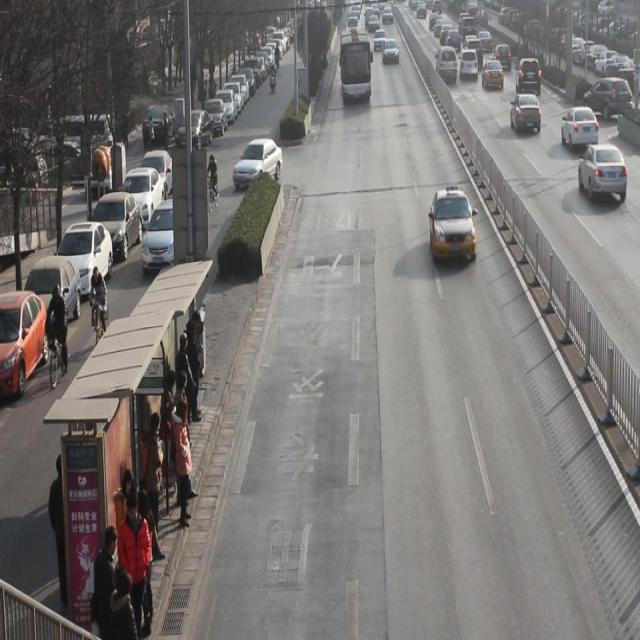car: (140, 200, 197, 272), (430, 186, 477, 262), (578, 145, 628, 203), (233, 138, 283, 187), (584, 78, 640, 120), (562, 107, 599, 149), (509, 94, 542, 138), (516, 56, 542, 97), (482, 58, 504, 93), (466, 40, 484, 70), (461, 49, 478, 78), (495, 45, 512, 71), (383, 40, 399, 66), (479, 30, 493, 53), (374, 28, 386, 51), (446, 32, 461, 50), (461, 17, 476, 35), (462, 9, 476, 28), (440, 24, 453, 44), (382, 7, 393, 25), (368, 15, 379, 32)
truck: (436, 47, 457, 83)
van: (338, 29, 370, 100)
